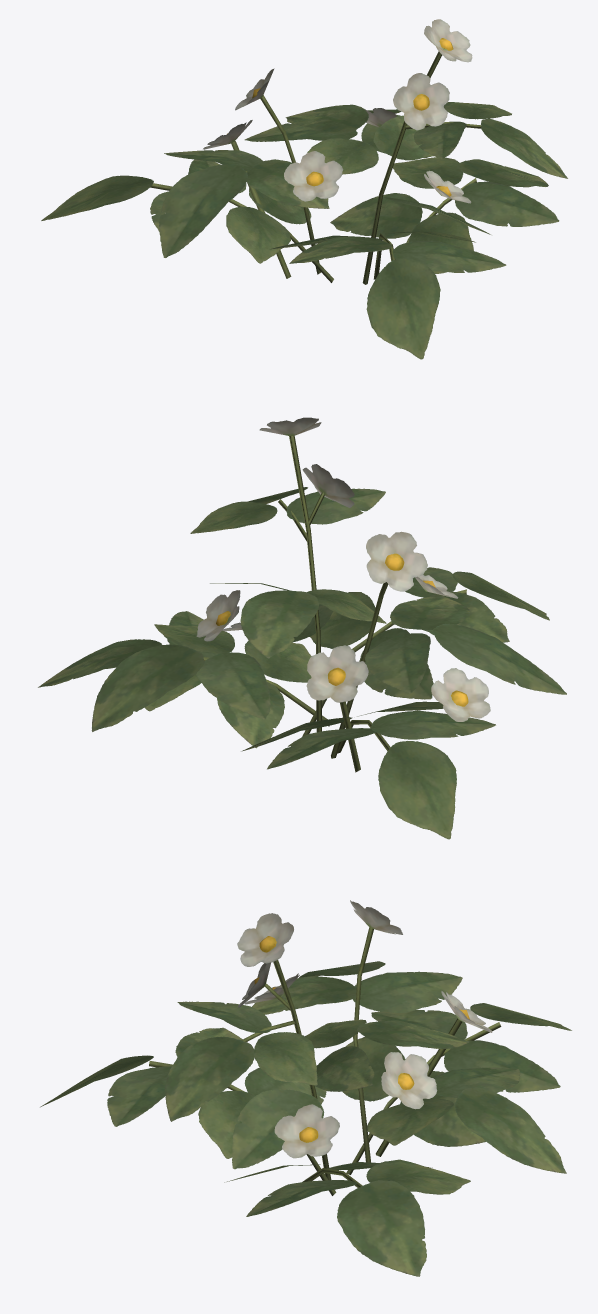
File: Flower1.fbx
3 views of the same model, one above another, from view 1: azimuth 30°, elevation 25°; view 2: azimuth 150°, elevation 25°; view 3: azimuth 270°, elevation 25° (orthographic). The views are drawn at different scales.
Parts seen in each view (by area): view 1: SM_cmn_mount_Flower_01a; view 2: SM_cmn_mount_Flower_01a; view 3: SM_cmn_mount_Flower_01a.
Boxes of the visible parts, <box> form: SM_cmn_mount_Flower_01a: <box>41,19,567,359</box>; SM_cmn_mount_Flower_01a: <box>38,417,566,839</box>; SM_cmn_mount_Flower_01a: <box>40,900,571,1276</box>.
Bounding box in the file's own units: 59.89 × 32.53 × 56.47.
